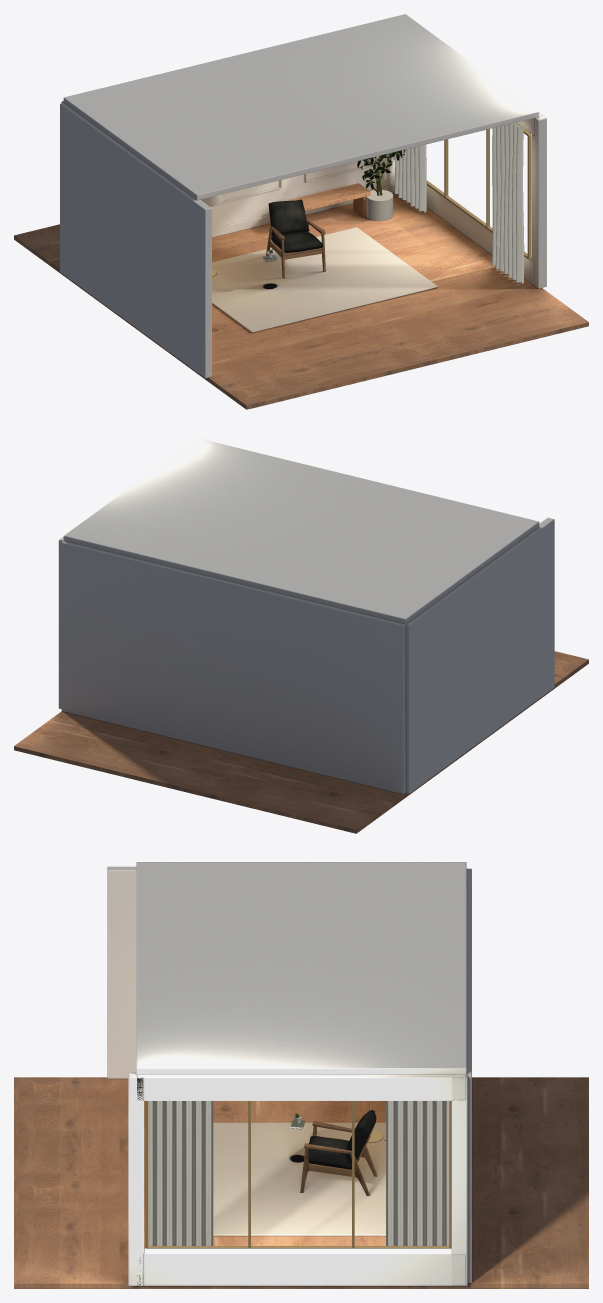
Rendered from lounge-baked-interior.glb.
The picture shows the model from 3 angles, top to bottom: view 1: azimuth 30°, elevation 25°; view 2: azimuth 150°, elevation 25°; view 3: azimuth 270°, elevation 25°; orthographic projection. The views are drawn at different scales.
Visible parts, largest first — view 1: Studio baked architecture, Pleated curtain, modern_arm_chair_01, Pleated curtain.001, Tree planter, pachira_aquatica_01_leaves_d, Window mullion; view 2: Studio baked architecture; view 3: Studio baked architecture, Pleated curtain, Pleated curtain.001, modern_arm_chair_01, Window horizontal rail, Window mullion.
Part boxes in pixels (left/top/right/bottom): Studio baked architecture: left=14, top=14, right=588, bottom=409; Pleated curtain: left=492, top=123, right=524, bottom=283; modern_arm_chair_01: left=266, top=199, right=325, bottom=278; Pleated curtain.001: left=394, top=144, right=426, bottom=212; Tree planter: left=366, top=190, right=393, bottom=220; pachira_aquatica_01_leaves_d: left=357, top=149, right=405, bottom=189; Window mullion: left=527, top=134, right=531, bottom=259; Studio baked architecture: left=14, top=438, right=588, bottom=833; Studio baked architecture: left=14, top=862, right=588, bottom=1288; Pleated curtain: left=145, top=1101, right=213, bottom=1247; Pleated curtain.001: left=386, top=1101, right=449, bottom=1245; modern_arm_chair_01: left=300, top=1110, right=377, bottom=1195; Window horizontal rail: left=148, top=1246, right=450, bottom=1248; Window mullion: left=145, top=1101, right=148, bottom=1248.
Size of the model in its own units: 6.96 by 3.39 by 8.
9 materials, 6 textured.
